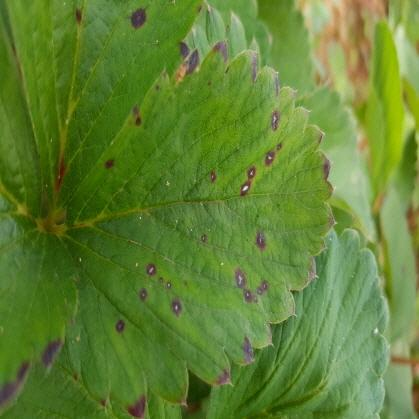Leaf Spot: (54, 38, 337, 418), (4, 0, 204, 218)
